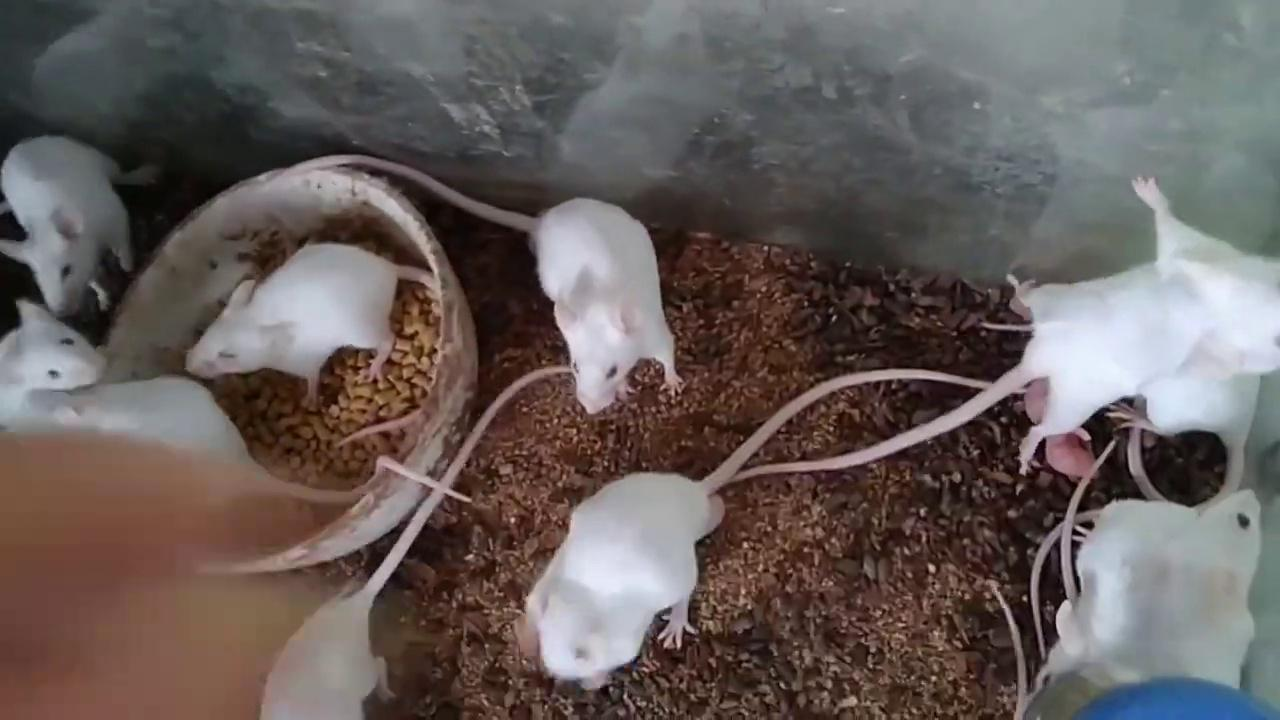rat: (516, 367, 1028, 689), (721, 246, 1264, 482), (258, 153, 682, 413), (260, 367, 572, 720), (184, 244, 440, 405), (1115, 488, 1263, 678), (0, 135, 157, 314), (0, 297, 107, 424)
